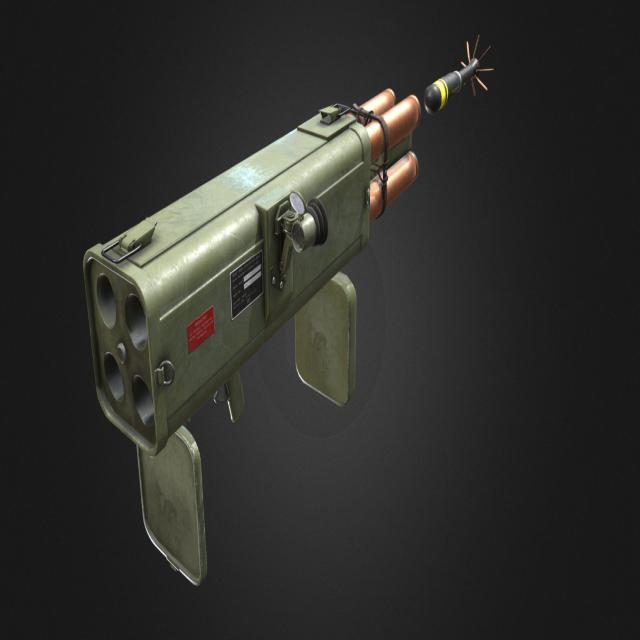bazooka: (29, 1, 538, 640)
